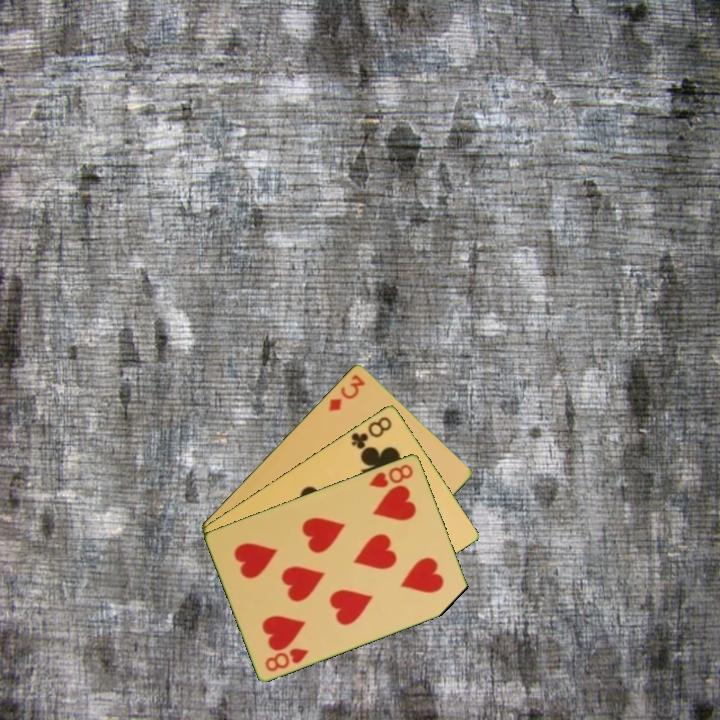3d: (325, 370, 368, 414)
8c: (347, 412, 395, 452)
8h: (261, 644, 312, 674), (366, 460, 416, 490)
